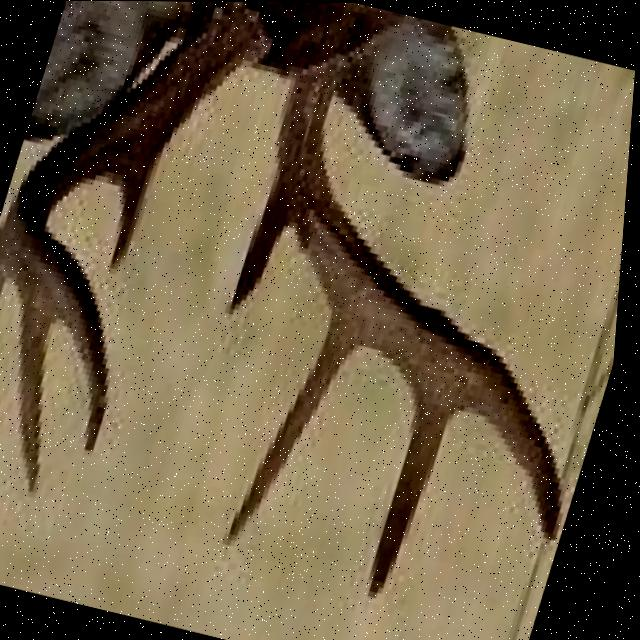L-F: (278, 55, 571, 540)
L-G1: (228, 167, 297, 318)
L-G2: (228, 290, 402, 546)
L-G3: (373, 355, 472, 599)
R-F: (5, 1, 274, 458)
R-G1: (105, 134, 178, 275)
R-G2: (0, 225, 25, 315)
R-G3: (11, 261, 68, 499)
